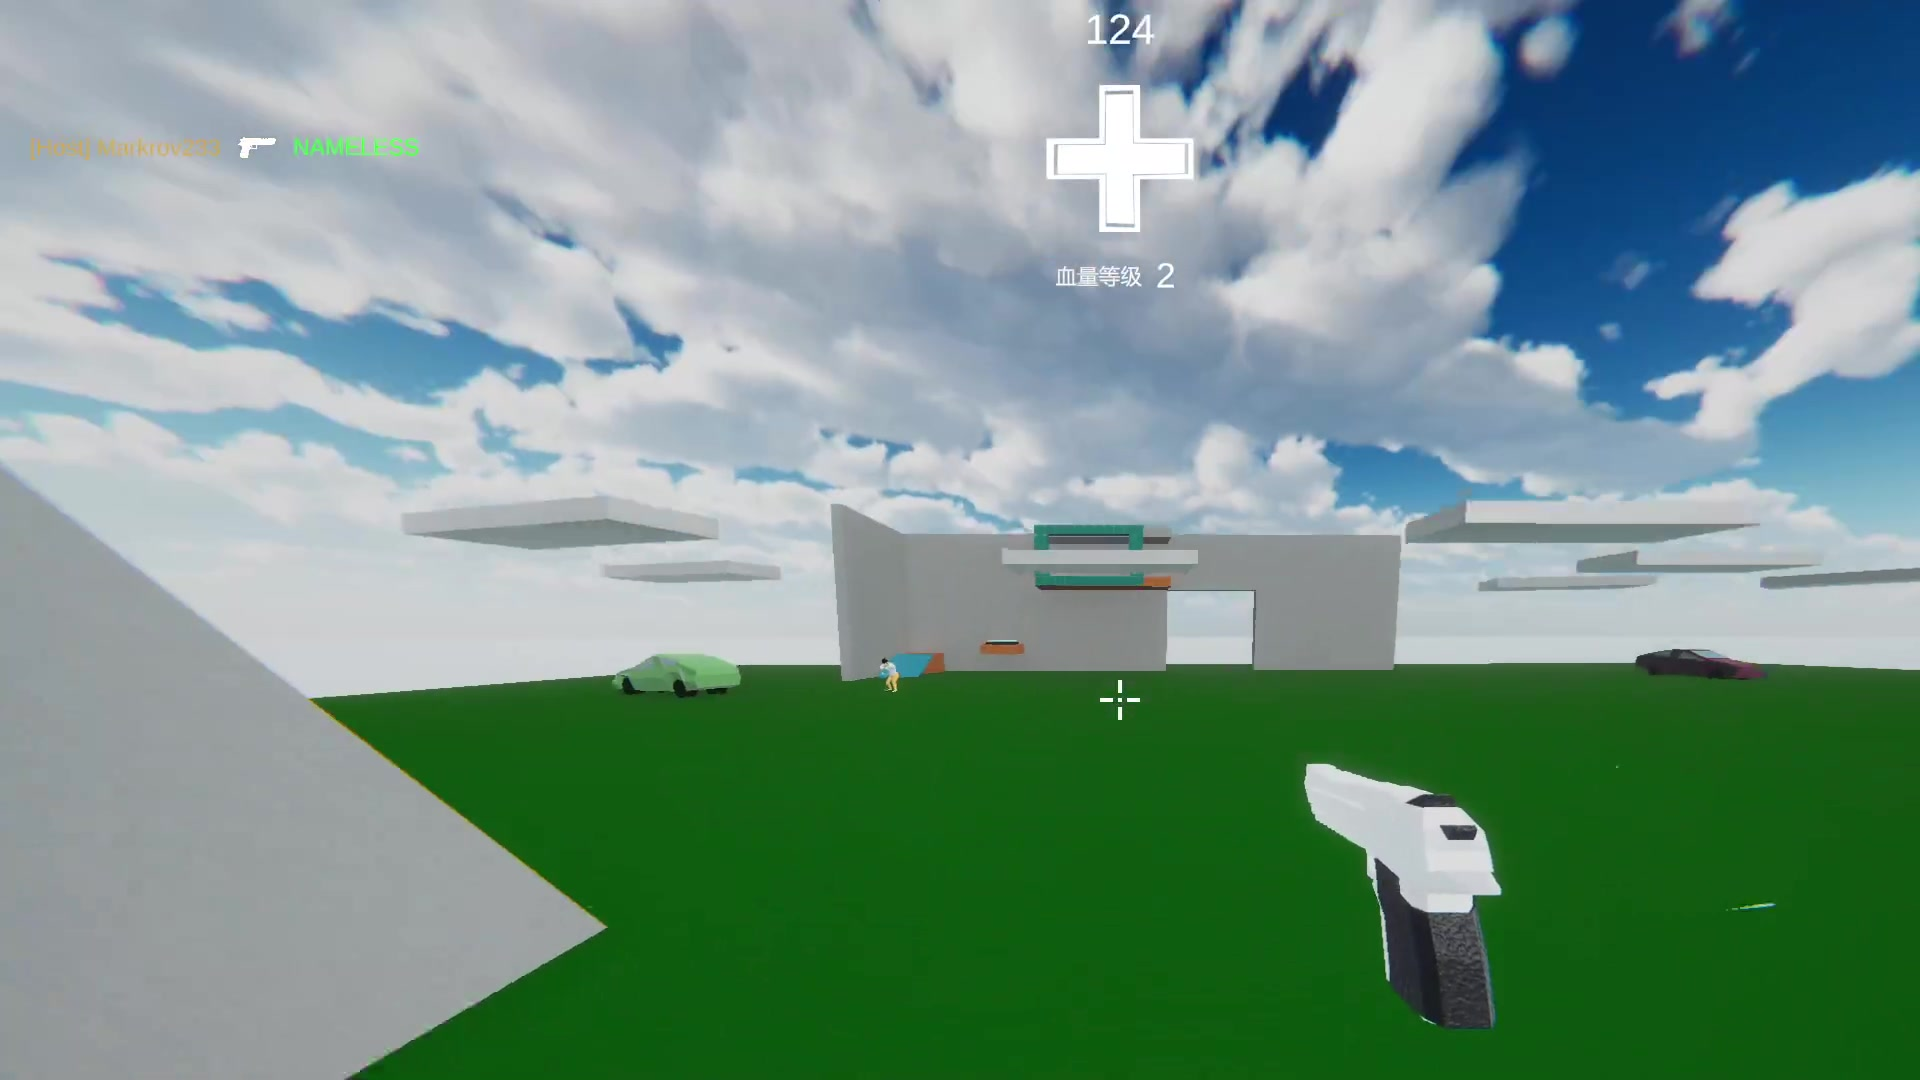human: (881, 652, 901, 699)
